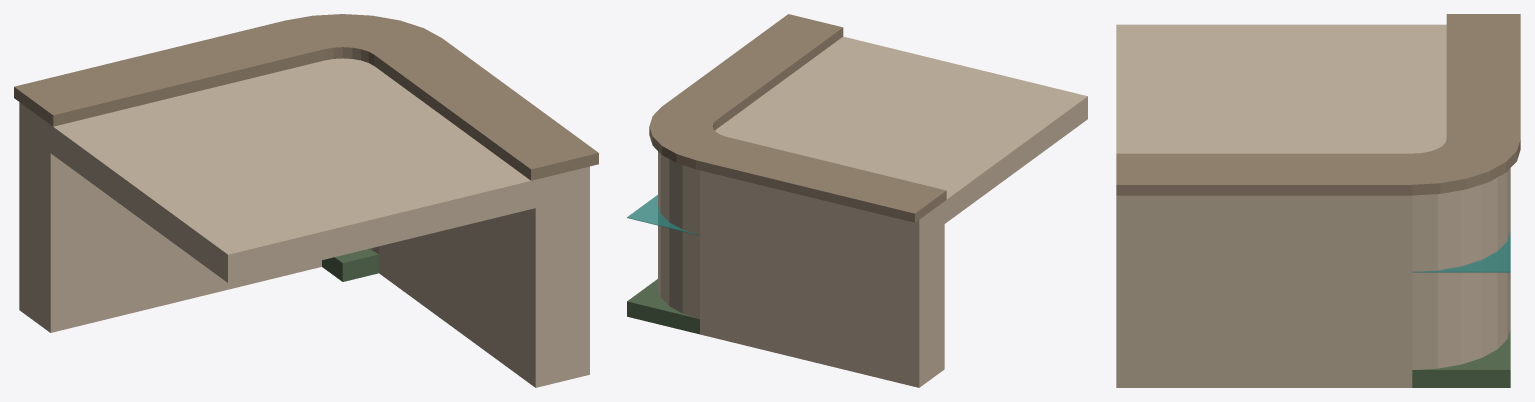
File: city_canal_corner_outer.glb
3 views of the same model, side by side, from view 1: azimuth 30°, elevation 25°; view 2: azimuth 150°, elevation 25°; view 3: azimuth 270°, elevation 25° (orthographic). The views are drawn at different scales.
Visible parts, largest first — view 1: CityCanalCornerOuter_Paving, CityCanalCornerOuter_Wall, CityCanalCornerOuter_Coping, CityCanalCornerOuter_Bed; view 2: CityCanalCornerOuter_Wall, CityCanalCornerOuter_Paving, CityCanalCornerOuter_Coping, CityCanalCornerOuter_Bed, CityCanalCornerOuter_Water; view 3: CityCanalCornerOuter_Wall, CityCanalCornerOuter_Paving, CityCanalCornerOuter_Coping, CityCanalCornerOuter_Bed, CityCanalCornerOuter_Water.
Boxes of the visible parts, bbox=[...] form: CityCanalCornerOuter_Paving: bbox=[50, 58, 535, 282]; CityCanalCornerOuter_Wall: bbox=[19, 102, 589, 387]; CityCanalCornerOuter_Coping: bbox=[14, 14, 598, 180]; CityCanalCornerOuter_Bed: bbox=[322, 249, 378, 281]; CityCanalCornerOuter_Wall: bbox=[658, 151, 944, 387]; CityCanalCornerOuter_Paving: bbox=[715, 36, 1087, 223]; CityCanalCornerOuter_Coping: bbox=[649, 14, 946, 222]; CityCanalCornerOuter_Bed: bbox=[627, 279, 699, 334]; CityCanalCornerOuter_Water: bbox=[627, 195, 699, 235]; CityCanalCornerOuter_Wall: bbox=[1116, 168, 1510, 387]; CityCanalCornerOuter_Paving: bbox=[1116, 24, 1446, 153]; CityCanalCornerOuter_Coping: bbox=[1116, 14, 1520, 195]; CityCanalCornerOuter_Bed: bbox=[1412, 329, 1510, 387]; CityCanalCornerOuter_Water: bbox=[1412, 231, 1510, 272].
Bounding box in the file's own units: 4.1 × 2.32 × 4.1.
